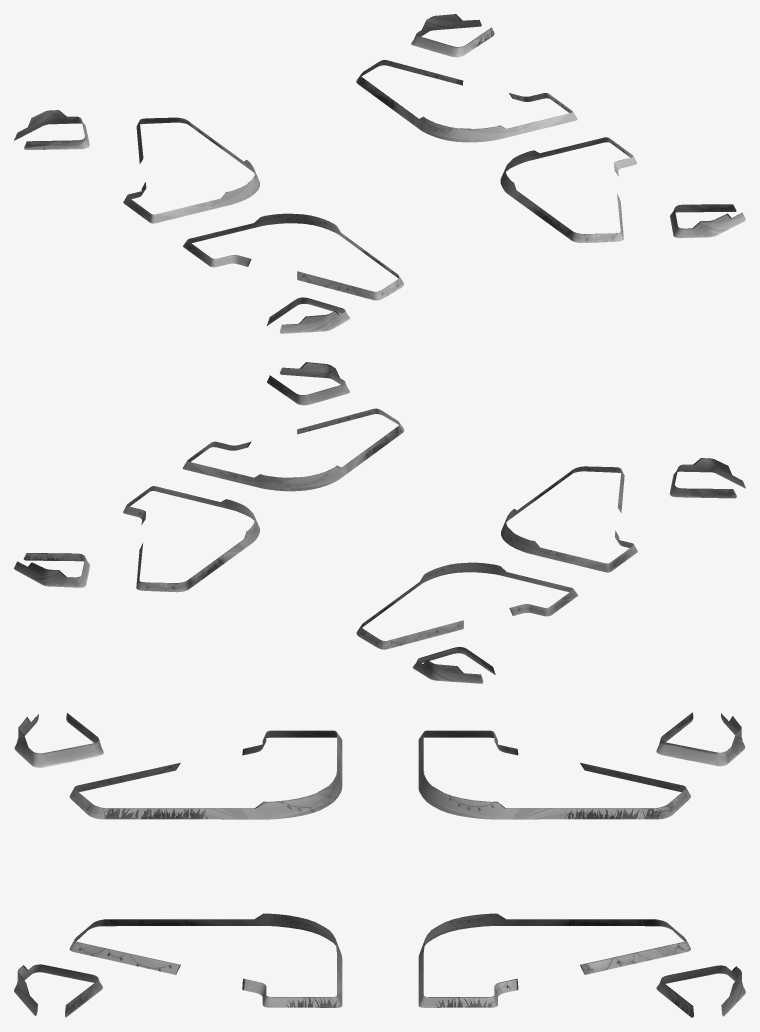
Rendered from pref_sm_beach_winter_Campcolor01_lv2.fbx.
3 renders of one model, top to bottom at view 1: azimuth 30°, elevation 25°; view 2: azimuth 150°, elevation 25°; view 3: azimuth 270°, elevation 25°, orthographic. The views are drawn at different scales.
Visible parts, largest first — view 1: sm_beach_winter_billboard_orange_lv2, sm_beach_winter_billboard_purple_lv2; view 2: sm_beach_winter_billboard_orange_lv2, sm_beach_winter_billboard_purple_lv2; view 3: sm_beach_winter_billboard_purple_lv2, sm_beach_winter_billboard_orange_lv2.
Part boxes in pixels (box(x1,y1,x2,y2)): sm_beach_winter_billboard_orange_lv2: box(356, 14, 745, 242); sm_beach_winter_billboard_purple_lv2: box(14, 110, 403, 333); sm_beach_winter_billboard_orange_lv2: box(14, 362, 404, 592); sm_beach_winter_billboard_purple_lv2: box(356, 458, 745, 683); sm_beach_winter_billboard_purple_lv2: box(14, 712, 745, 819); sm_beach_winter_billboard_orange_lv2: box(14, 913, 745, 1017).
Size of the model in its own units: 50.14 by 1.82 by 52.08.
